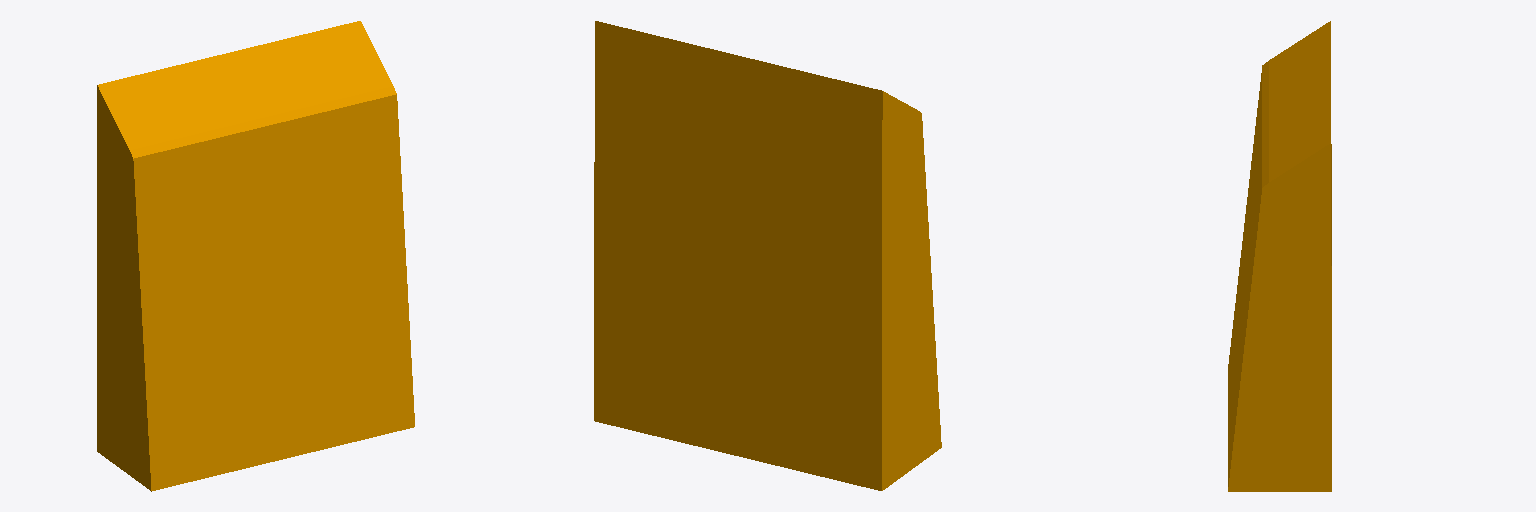
URDF robot description (blade_feeder):
<?xml version="1.0" ?>
<robot name="blade_feeder">

    <link name="blade_feeder">
        <visual>
            <origin rpy="0 0 0" xyz="0 0 0"/>
            <geometry>
                <mesh filename="./environment/blade_feeder.stl"/>
            </geometry>
        </visual>
        <inertial>
            <mass value="0"/>
            <origin rpy="0 0 0" xyz="0 0 0"/>
            <inertia ixx="0" ixy="0.0" ixz="0.0" iyy="0" iyz="0" izz="0"/>
        </inertial>
        <collision>
            <origin rpy="0 0 0" xyz="0 0 0"/>
            <geometry>
                <mesh filename="./environment/blade_feeder.stl"/>
            </geometry>
        </collision>
    </link>

</robot>

--- Facts derived from the render (not from the file) ---
3 views of the same robot in one strip: view 1: azimuth 30°, elevation 25°; view 2: azimuth 150°, elevation 25°; view 3: azimuth 270°, elevation 25° (orthographic).
Model blade_feeder with 1 links and 0 joints (none), rooted at blade_feeder, posed every joint at zero.
Visible links, largest first — view 1: blade_feeder; view 2: blade_feeder; view 3: blade_feeder.
Boxes of the visible links, <box> form: blade_feeder: <box>97,21,414,491</box>; blade_feeder: <box>594,21,941,490</box>; blade_feeder: <box>1228,21,1331,491</box>.
Size in the robot's own frame: 0.6 by 0.2158 by 0.7976 metres.
1 mesh visuals loaded from 1 distinct referenced files (1 binary STL).